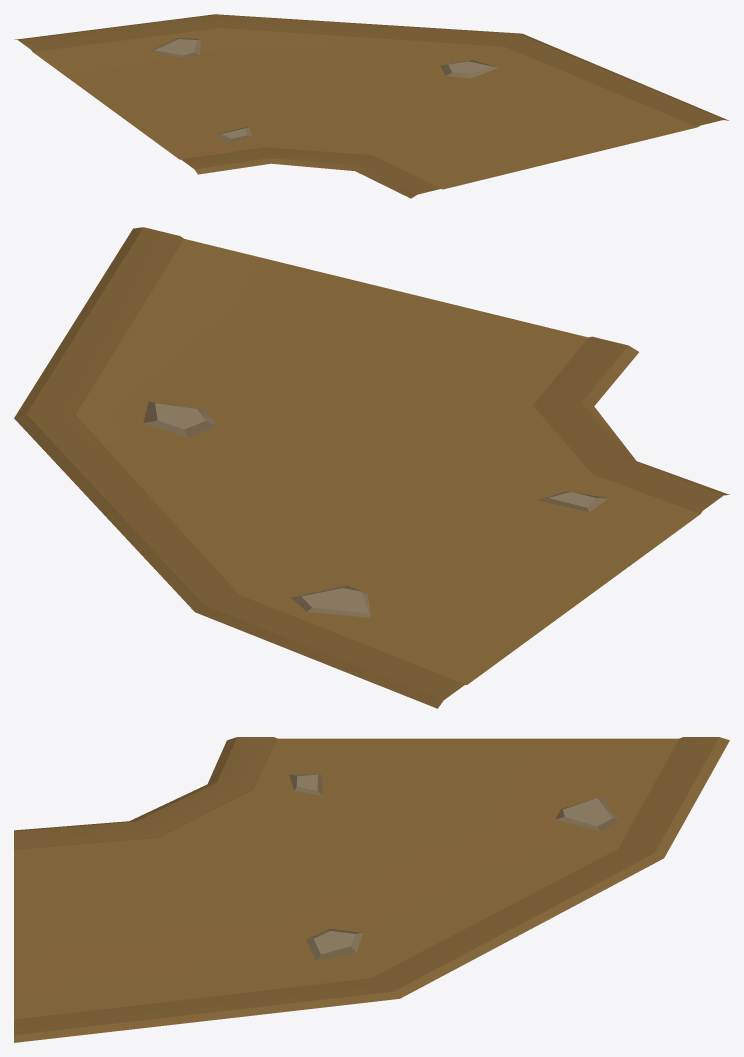
The model's file is Path_Bend_02.gltf.
3 renders of one model, top to bottom at view 1: azimuth 30°, elevation 25°; view 2: azimuth 150°, elevation 25°; view 3: azimuth 270°, elevation 25°, orthographic. The views are drawn at different scales.
Parts seen in each view (by area): view 1: SF_Env_Path_Bend_02; view 2: SF_Env_Path_Bend_02; view 3: SF_Env_Path_Bend_02.
Boxes of the visible parts, x1=… form: SF_Env_Path_Bend_02: x1=14, y1=14, x2=728, y2=198; SF_Env_Path_Bend_02: x1=14, y1=227, x2=729, y2=708; SF_Env_Path_Bend_02: x1=14, y1=737, x2=729, y2=1042.
Size of the model in its own units: 0.0771 by 0.000509 by 0.0771.
1 material, 1 textured.
